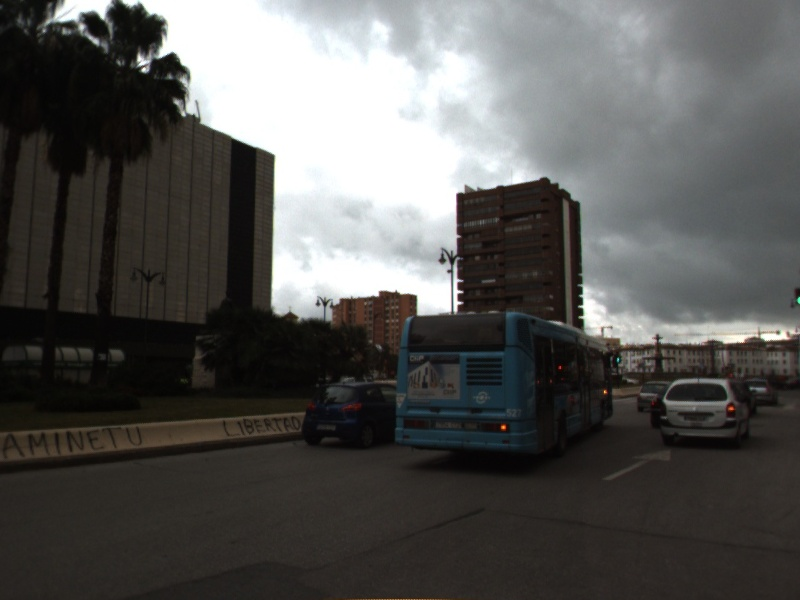STRAIGHT: (600, 448, 673, 483)
